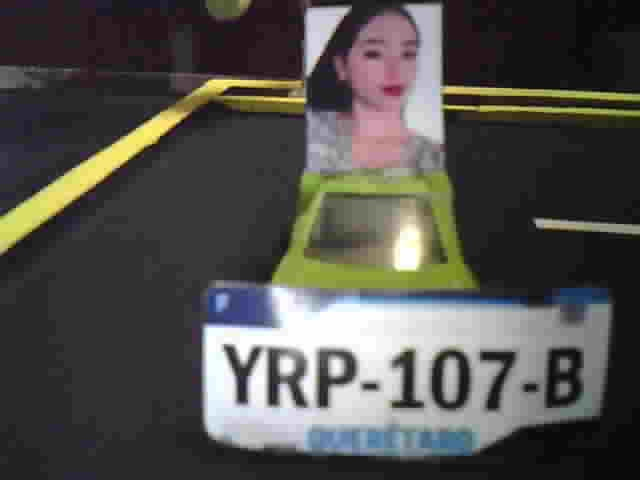PLACA: (197, 279, 618, 466)
ROSTRO: (304, 6, 446, 172)
